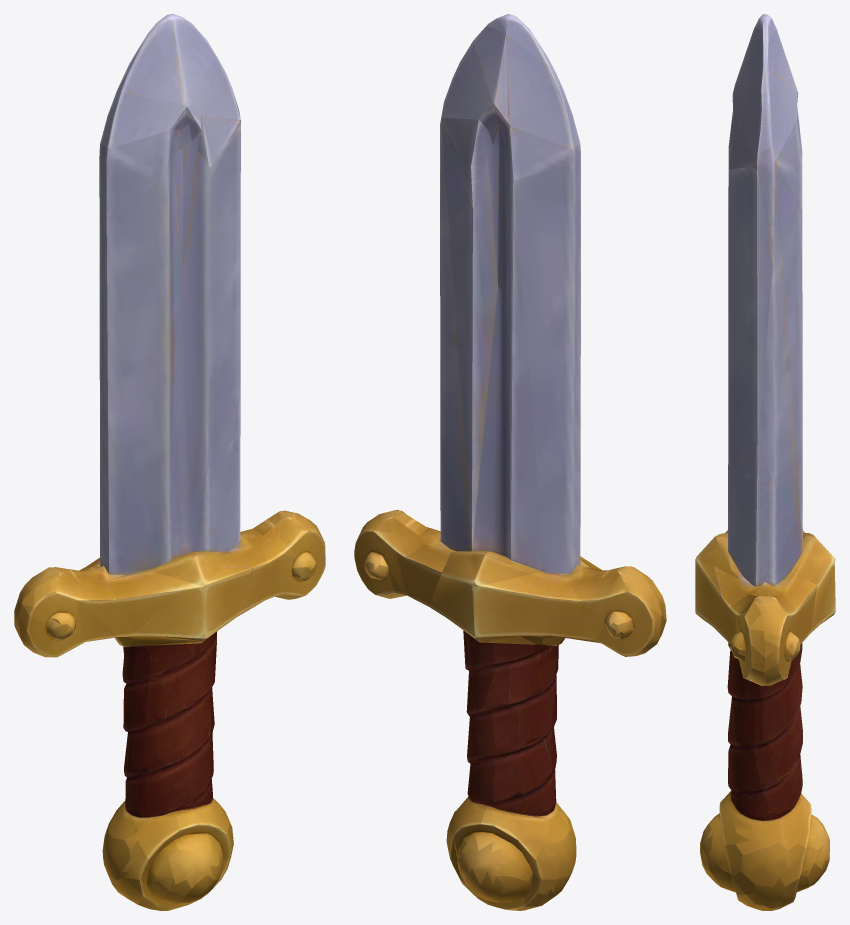
The model's file is spada.glb.
3 renders of one model, left to right at view 1: azimuth 30°, elevation 25°; view 2: azimuth 150°, elevation 25°; view 3: azimuth 270°, elevation 25°, orthographic.
Bounding box in the file's own units: 0.6776 × 1.9 × 0.2722.
Materials: 1 (1 with a texture image).
